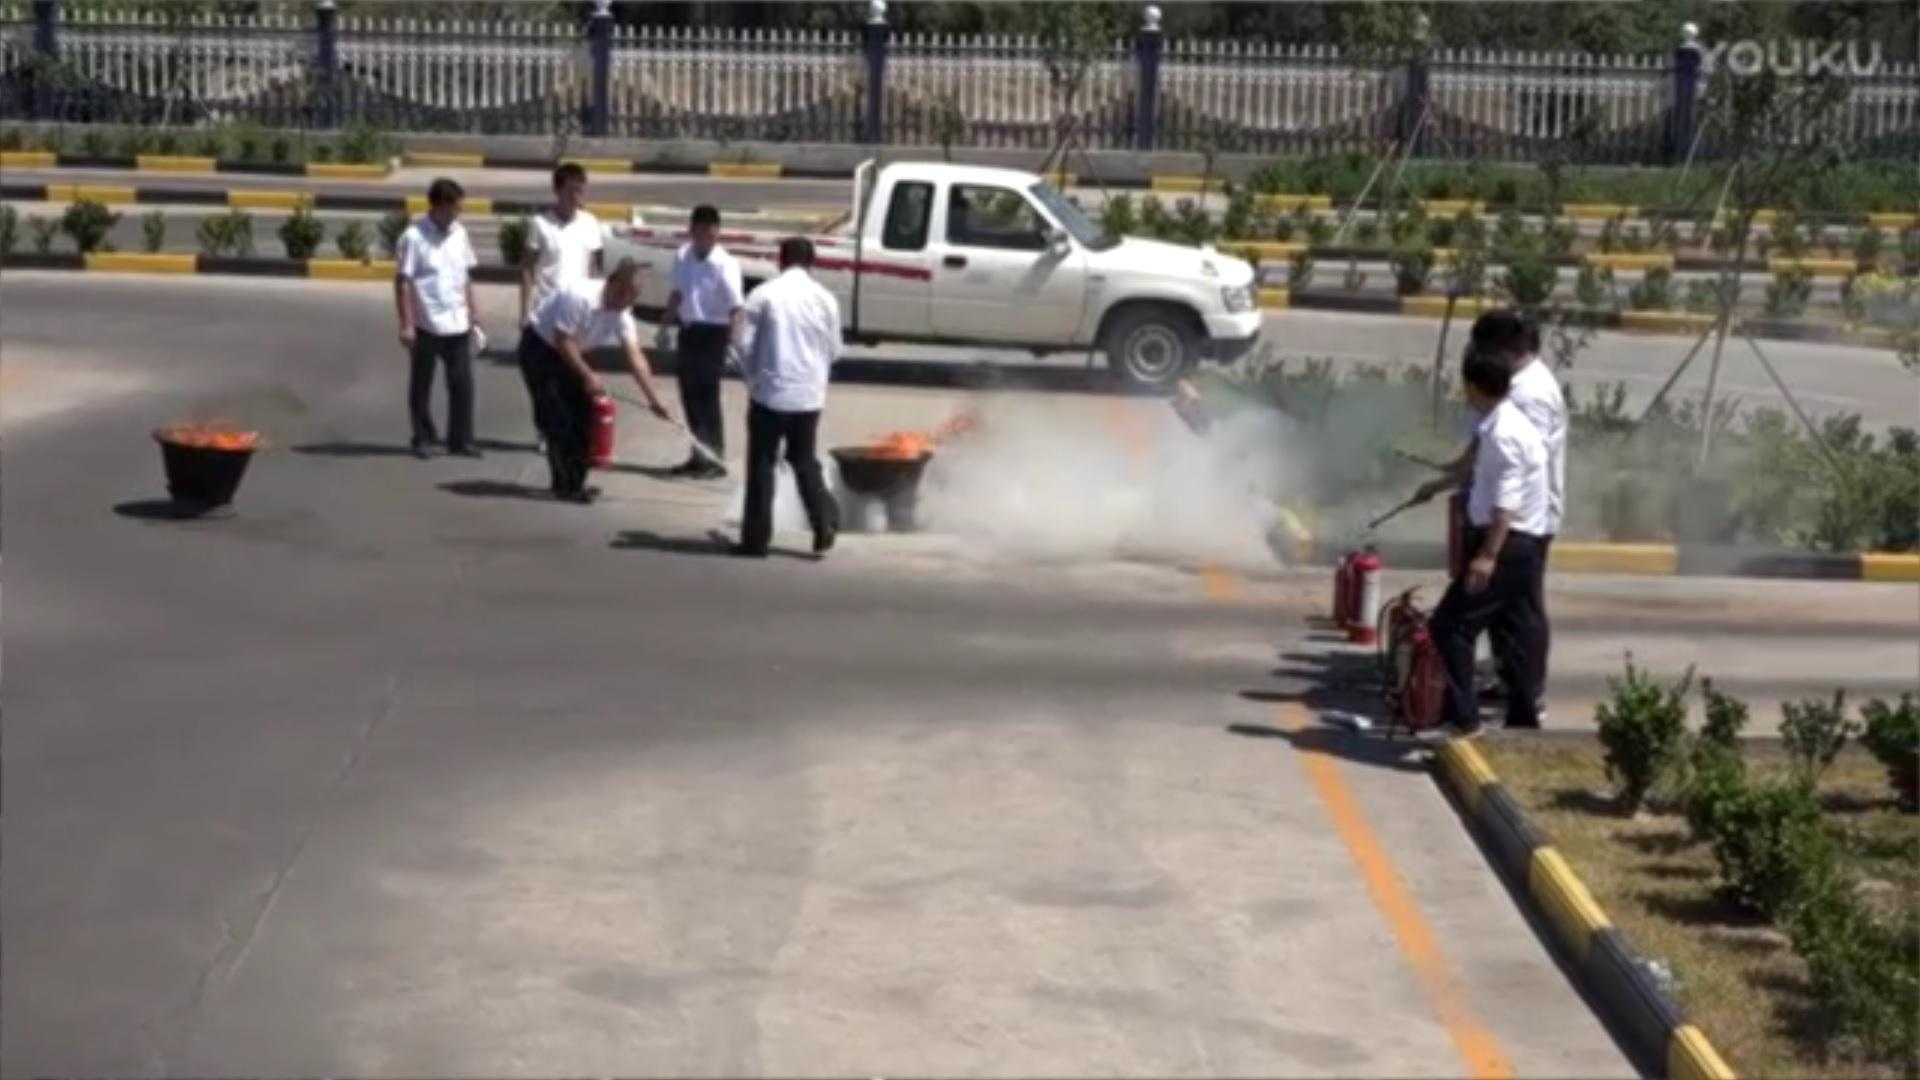fire: (862, 411, 953, 459), (164, 415, 258, 454)
